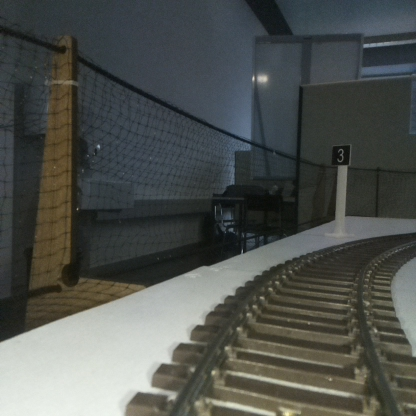black-info-3: (332, 144, 350, 234)
